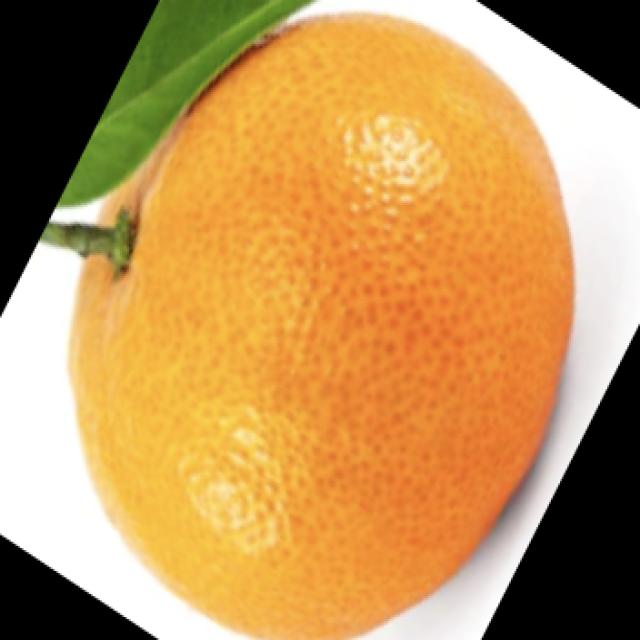matang: (72, 13, 568, 638)
